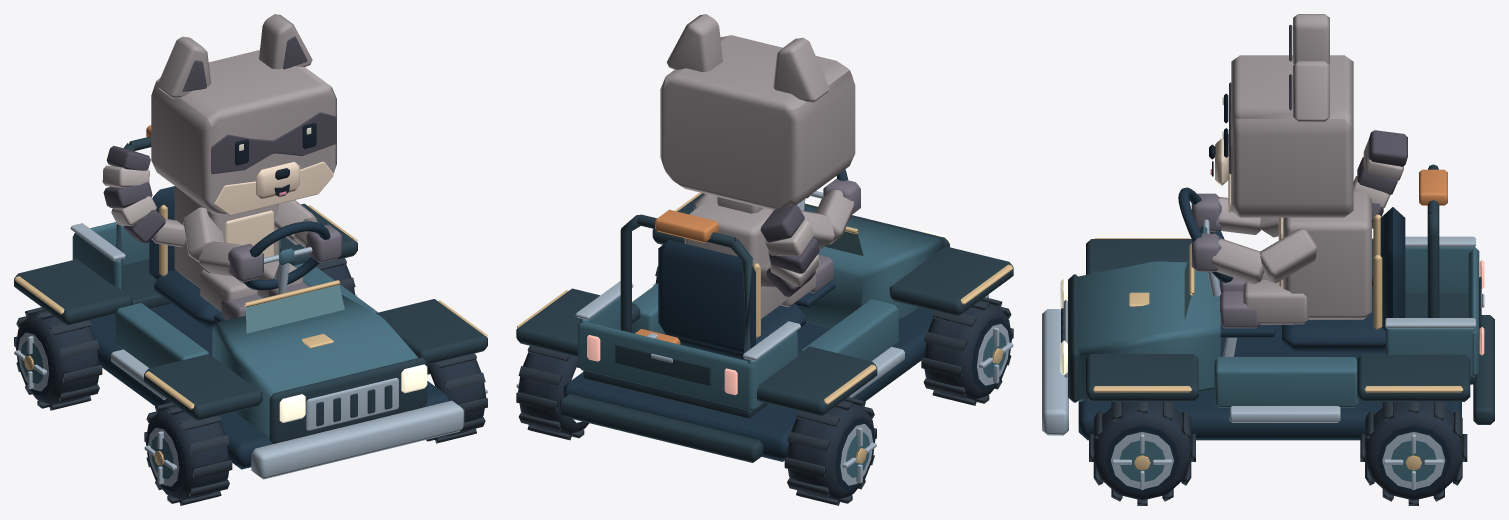
File: kart_rakun_low.glb
The picture shows the model from 3 angles, left to right: view 1: azimuth 30°, elevation 25°; view 2: azimuth 150°, elevation 25°; view 3: azimuth 270°, elevation 25°; orthographic projection. The views are drawn at different scales.
Visible parts, largest first — view 1: chassis, driver_pose, wheel_rl_spin, wheel_fl_spin, tail, wheel_fr_spin, ear_l, steering, ear_r, eyes, wheel_rr_spin; view 2: chassis, driver_pose, wheel_rl_spin, wheel_fl_spin, wheel_rr_spin, tail, ear_l, ear_r; view 3: chassis, driver_pose, wheel_fr_spin, wheel_rr_spin, tail, ear_r, ear_l, steering.
Boxes of the visible parts, x1,y1,x2,y2 form: chassis: (14,125,487,479); driver_pose: (151,50,342,319); wheel_rl_spin: (14,307,102,410); wheel_fl_spin: (144,402,232,505); tail: (102,145,185,247); wheel_fr_spin: (426,353,487,443); ear_l: (157,36,210,98); steering: (243,221,330,290); ear_r: (259,14,312,69); eyes: (235,122,316,165); wheel_rr_spin: (316,258,357,296); chassis: (516,192,1013,462); driver_pose: (660,35,860,318); wheel_rl_spin: (784,397,876,505); wheel_fl_spin: (921,297,1013,405); wheel_rr_spin: (516,346,588,440); tail: (760,204,819,296); ear_l: (773,37,829,102); ear_r: (666,14,722,72); chassis: (1042,164,1494,440); driver_pose: (1191,55,1371,328); wheel_fr_spin: (1089,402,1195,505); wheel_rr_spin: (1360,402,1467,505); tail: (1353,130,1407,228); ear_r: (1289,60,1329,122); ear_l: (1289,14,1329,63); steering: (1178,187,1233,282).
Size of what is drawn, in the model's own units: 1.46 by 1.66 by 1.74.
